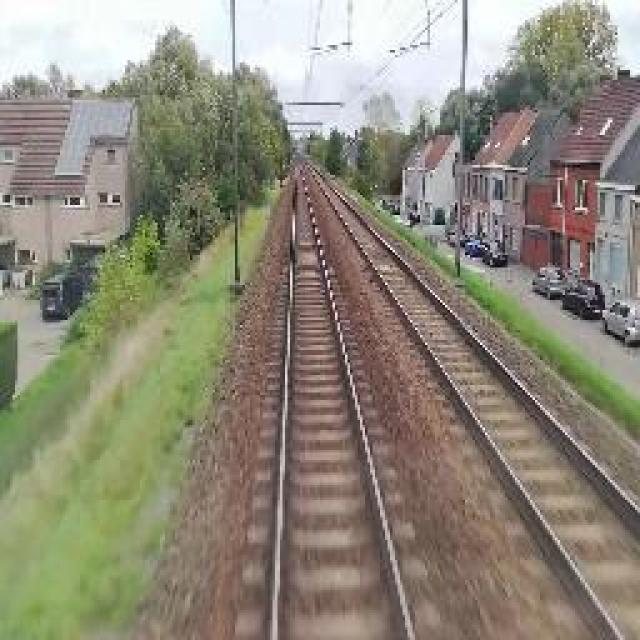rail: (231, 161, 455, 638)
